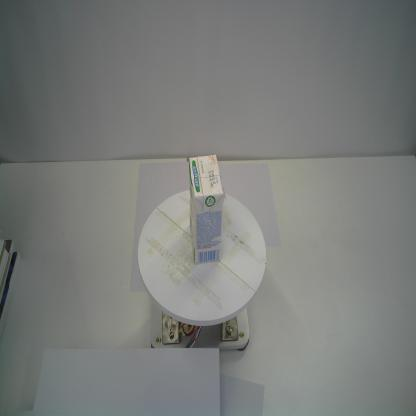Milk: (186, 152, 224, 270)
